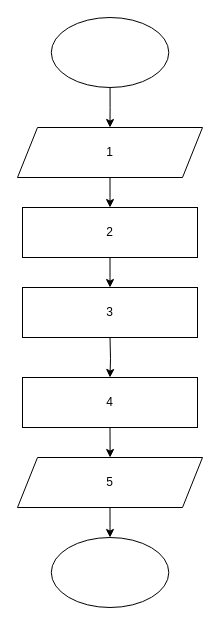
This 220x625 diagram has some shape labels left out. Here are the shapes that lost their labels. From the top down, the centre of each, then its label:
At pixel 109 52: "START".
At pixel 109 572: "END".
